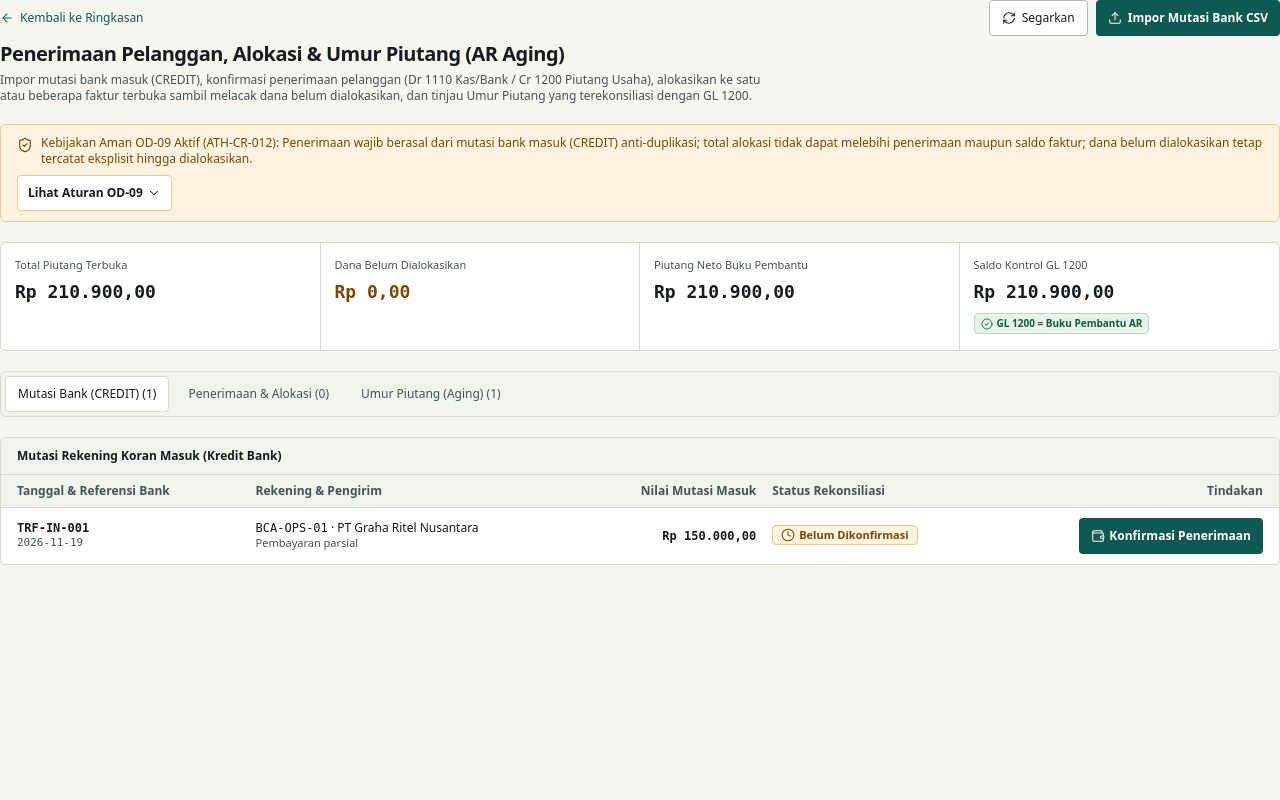
Scenario: S15 Customer Receipts, Allocation & AR Aging UI › disables confirmation when requested allocation exceeds received bank amount
This screenshot has width=1280, height=800.
Click the button with test id "confirm-bank-TRF-IN-001".
click(1171, 536)  # box left=1079, top=518, right=1263, bottom=554
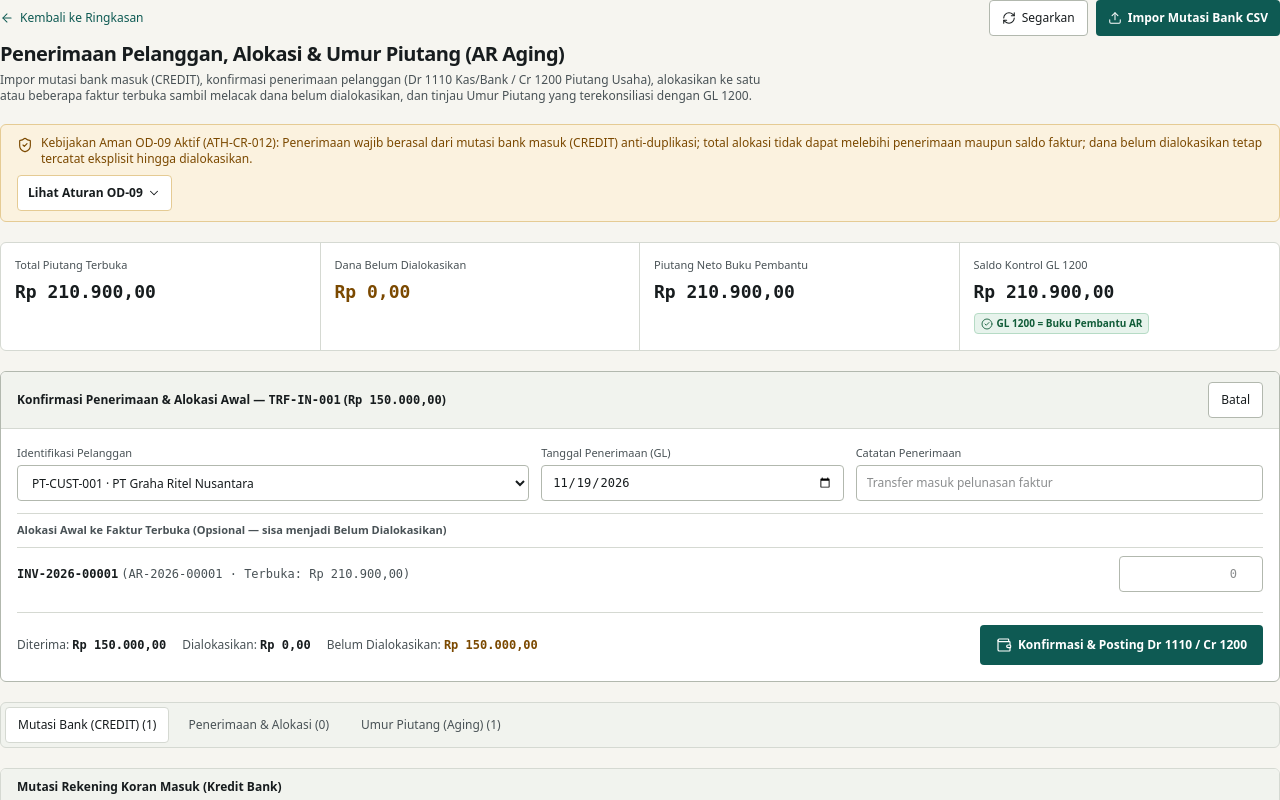
Type "200000" into the number field with id "ar-init-alloc-0".
click(1191, 574); type("200000")  # box left=1119, top=556, right=1263, bottom=592
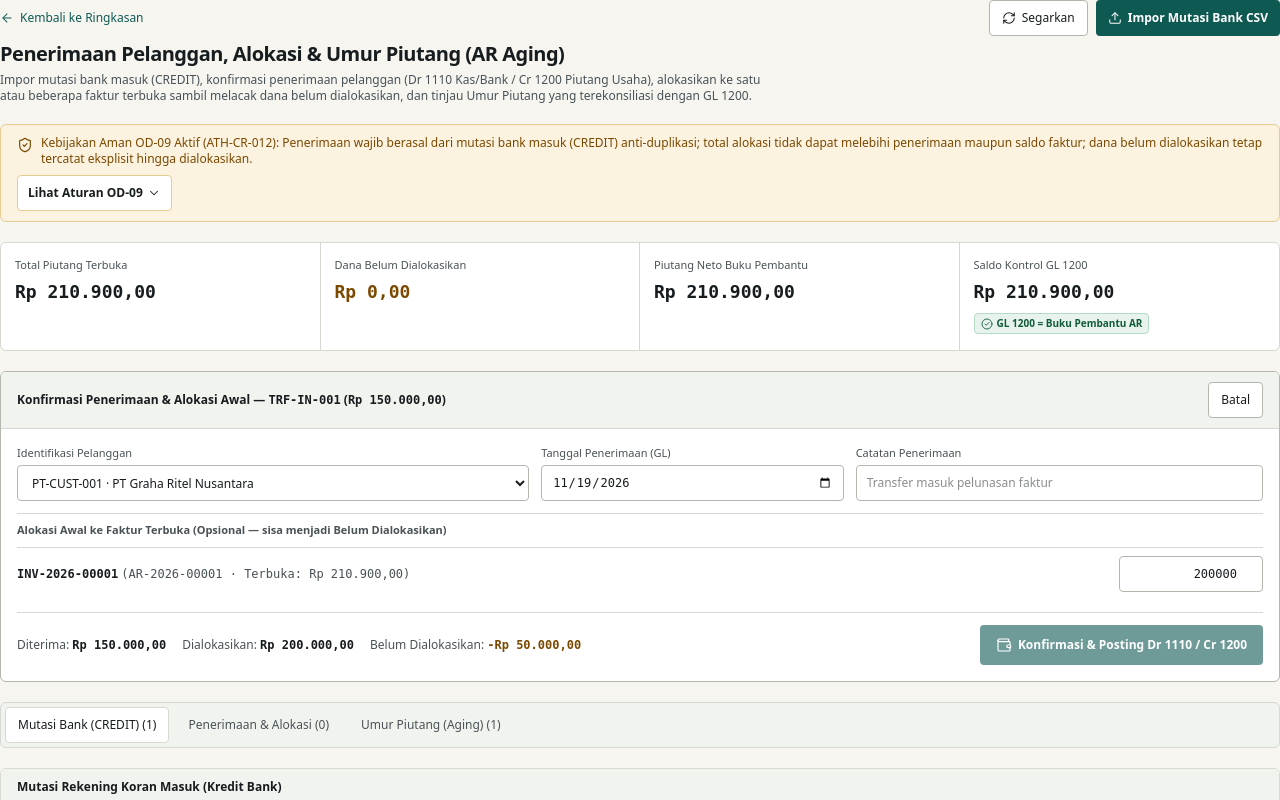
Result: the button with id "ar-confirm-submit-btn" is disabled at left=980, top=624, right=1263, bottom=664
